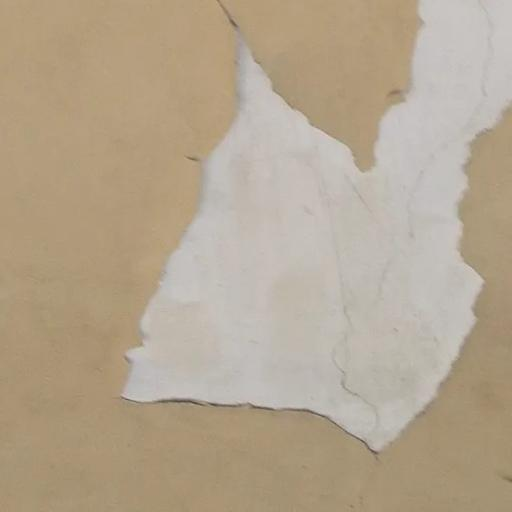peeling: (109, 2, 512, 472)
